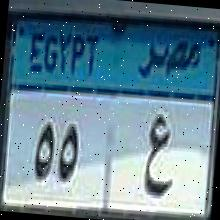5: (30, 115, 59, 184), (55, 122, 83, 186)
ain: (142, 106, 180, 201)
